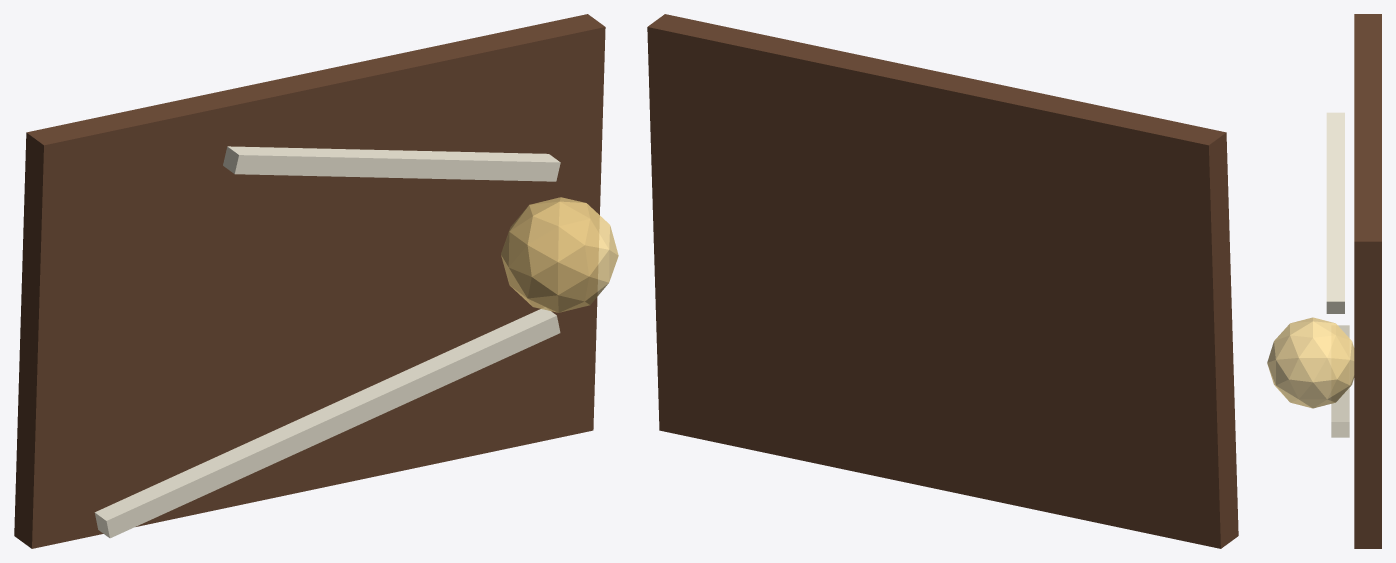
The model's file is 02_world_prop_polish.glb.
3 renders of one model, left to right at view 1: azimuth 30°, elevation 25°; view 2: azimuth 150°, elevation 25°; view 3: azimuth 270°, elevation 25°, orthographic. The views are drawn at different scales.
Parts seen in each view (by area): view 1: object_overlay_plate, edge_wear_a, glow_socket, edge_wear_b; view 2: object_overlay_plate; view 3: object_overlay_plate, glow_socket, edge_wear_b, edge_wear_a.
Boxes of the visible parts, x1,y1,x2,y2 form: object_overlay_plate: [14, 14, 605, 548]; edge_wear_a: [94, 308, 560, 538]; glow_socket: [501, 197, 618, 312]; edge_wear_b: [223, 146, 560, 181]; object_overlay_plate: [647, 14, 1238, 548]; object_overlay_plate: [1354, 14, 1381, 548]; glow_socket: [1267, 317, 1354, 408]; edge_wear_b: [1326, 112, 1344, 313]; edge_wear_a: [1331, 325, 1349, 437].
Bounding box in the file's own units: 1.12 × 0.7844 × 0.25.
